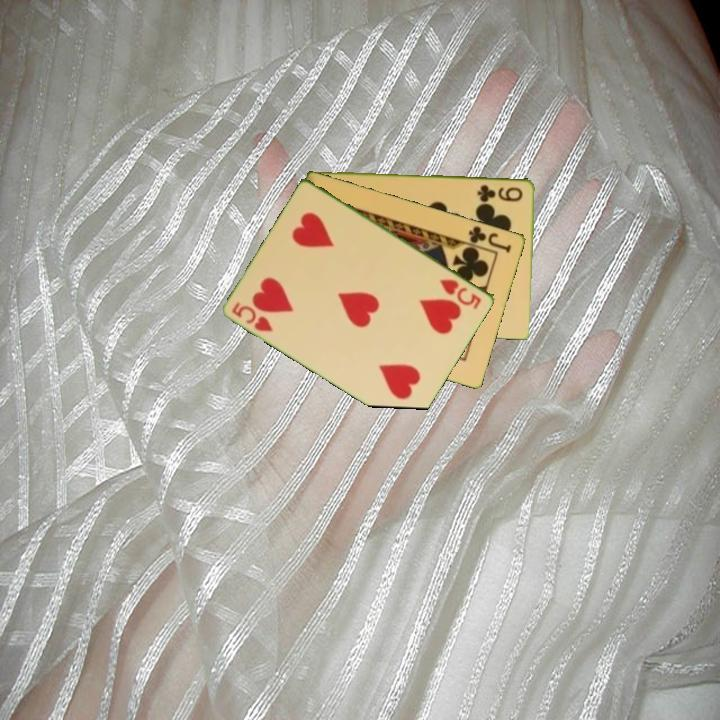5h: (437, 275, 484, 312), (229, 298, 276, 335)
9c: (474, 181, 526, 203)
Jc: (465, 222, 515, 256)
